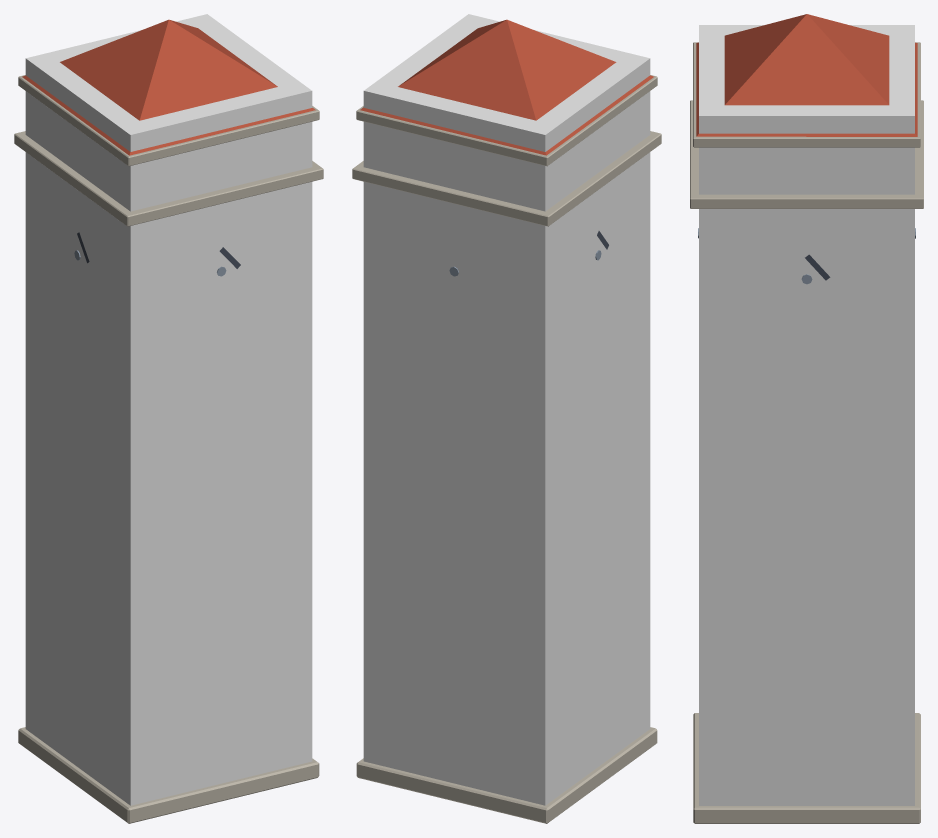
The model's file is bld_clocktower_a.glb.
3 views of the same model, side by side, from view 1: azimuth 30°, elevation 25°; view 2: azimuth 150°, elevation 25°; view 3: azimuth 270°, elevation 25° (orthographic). The views are drawn at different scales.
Visible parts, largest first — view 1: COL_bld_clocktower_a_1, bld_clocktower_a; view 2: COL_bld_clocktower_a_1, bld_clocktower_a; view 3: COL_bld_clocktower_a_1, bld_clocktower_a.
Boxes of the visible parts, left/top/right/bottom form: COL_bld_clocktower_a_1: left=25, top=14, right=312, bottom=805; bld_clocktower_a: left=14, top=19, right=323, bottom=823; COL_bld_clocktower_a_1: left=363, top=14, right=650, bottom=805; bld_clocktower_a: left=352, top=19, right=661, bottom=823; COL_bld_clocktower_a_1: left=699, top=25, right=914, bottom=805; bld_clocktower_a: left=690, top=14, right=923, bottom=823.
Bounding box in the file's own units: 3.9 × 14.04 × 3.9.
